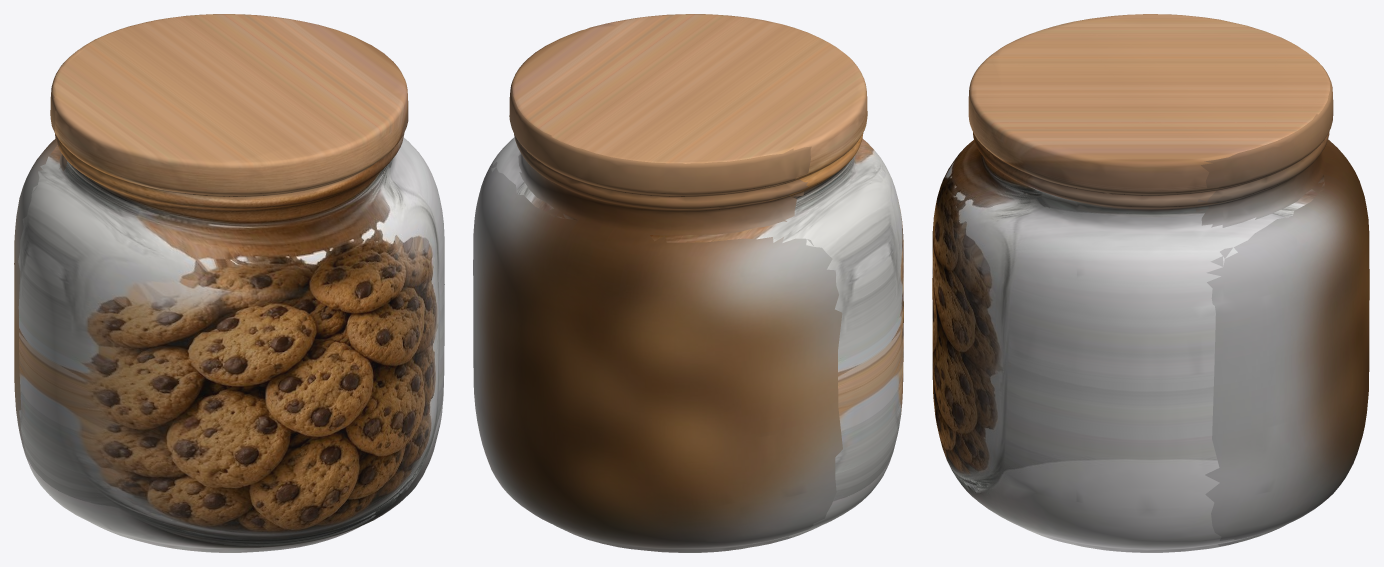
File: cookie_jar.glb
The picture shows the model from 3 angles, left to right: view 1: azimuth 30°, elevation 25°; view 2: azimuth 150°, elevation 25°; view 3: azimuth 270°, elevation 25°; orthographic projection.
Parts seen in each view (by area): view 1: cookie_jar; view 2: cookie_jar; view 3: cookie_jar.
Boxes of the visible parts, left/top/right/bottom form: cookie_jar: left=14, top=14, right=444, bottom=552; cookie_jar: left=473, top=14, right=903, bottom=552; cookie_jar: left=932, top=14, right=1369, bottom=552.
Bounding box in the file's own units: 7 × 7 × 7.
Materials: 1 (1 with a texture image).
